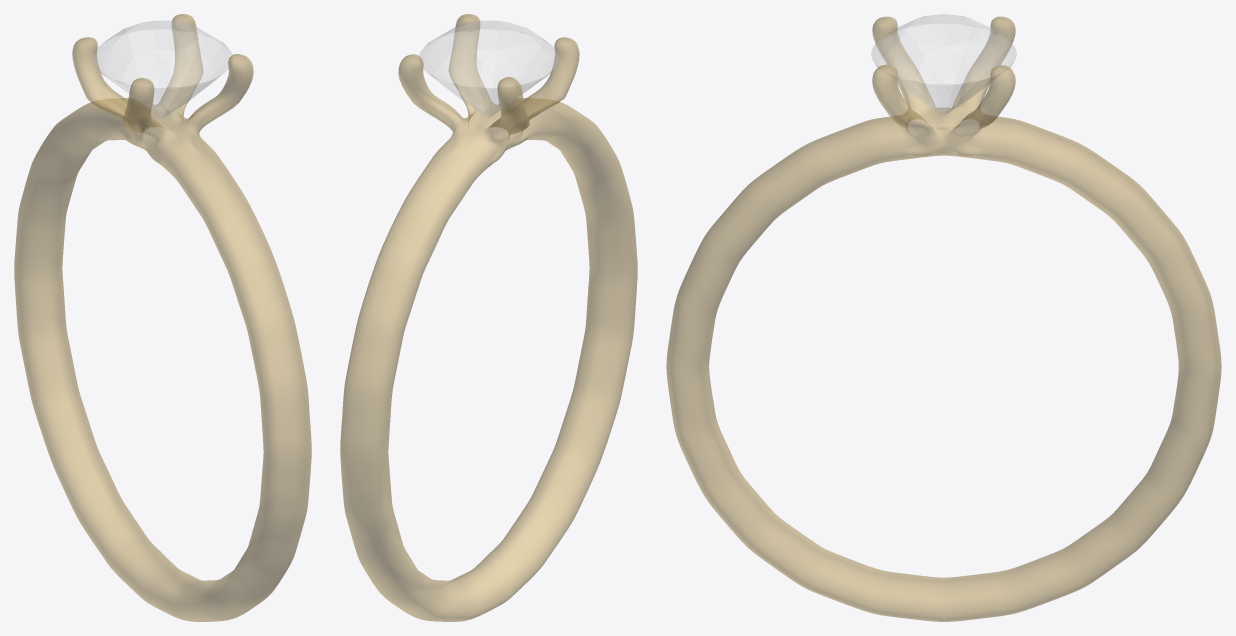
3 views of the same model, side by side, from view 1: azimuth 30°, elevation 25°; view 2: azimuth 150°, elevation 25°; view 3: azimuth 270°, elevation 25° (orthographic). The views are drawn at different scales.
Parts seen in each view (by area): view 1: Ring, Diamond; view 2: Ring, Diamond; view 3: Ring, Diamond.
Part boxes in pixels (left/top/right/bottom): Ring: left=14, top=14, right=311, bottom=621; Diamond: left=93, top=21, right=232, bottom=117; Ring: left=340, top=14, right=637, bottom=621; Diamond: left=419, top=21, right=558, bottom=117; Ring: left=666, top=16, right=1221, bottom=621; Diamond: left=871, top=14, right=1016, bottom=114.
Bounding box in the file's own units: 0.6111 × 2.73 × 2.34.
